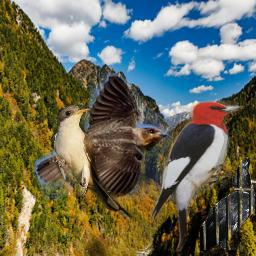Crow: (200, 157, 255, 250)
Cuckoo: (51, 104, 134, 224)
Swallow: (34, 73, 173, 200)
Woodpecker: (150, 100, 243, 252)
